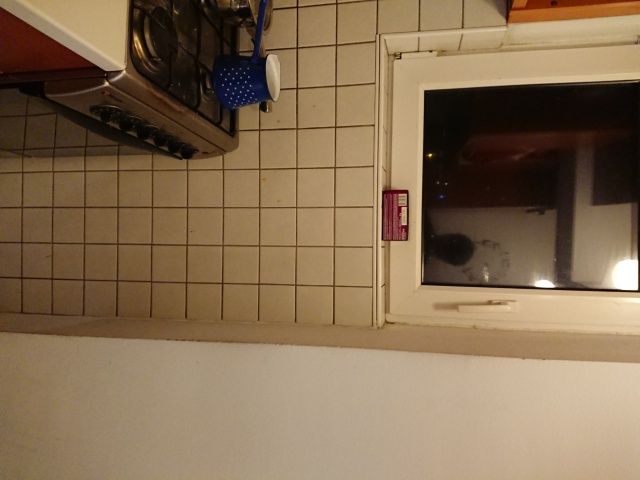Franck Black Currant Tea 60g: (379, 187, 411, 243)
